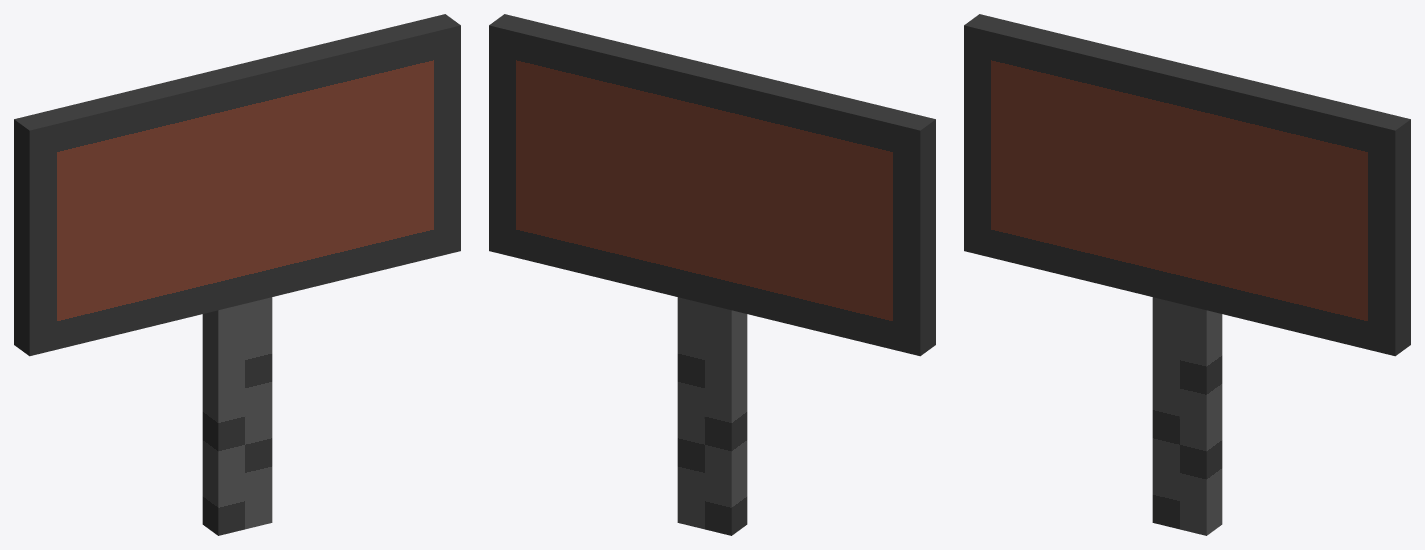
File: Board.obj
3 views of the same model, side by side, from view 1: azimuth 30°, elevation 25°; view 2: azimuth 150°, elevation 25°; view 3: azimuth 330°, elevation 25° (orthographic).
Visible parts, largest first — view 1: cube; view 2: cube; view 3: cube.
Part boxes in pixels (box(x1,y1,x2,y2)): cube: box(14, 14, 460, 535); cube: box(489, 14, 935, 535); cube: box(964, 14, 1410, 535).
Size of the model in its own units: 1 by 1 by 0.0625.
2 materials, 2 textured.
